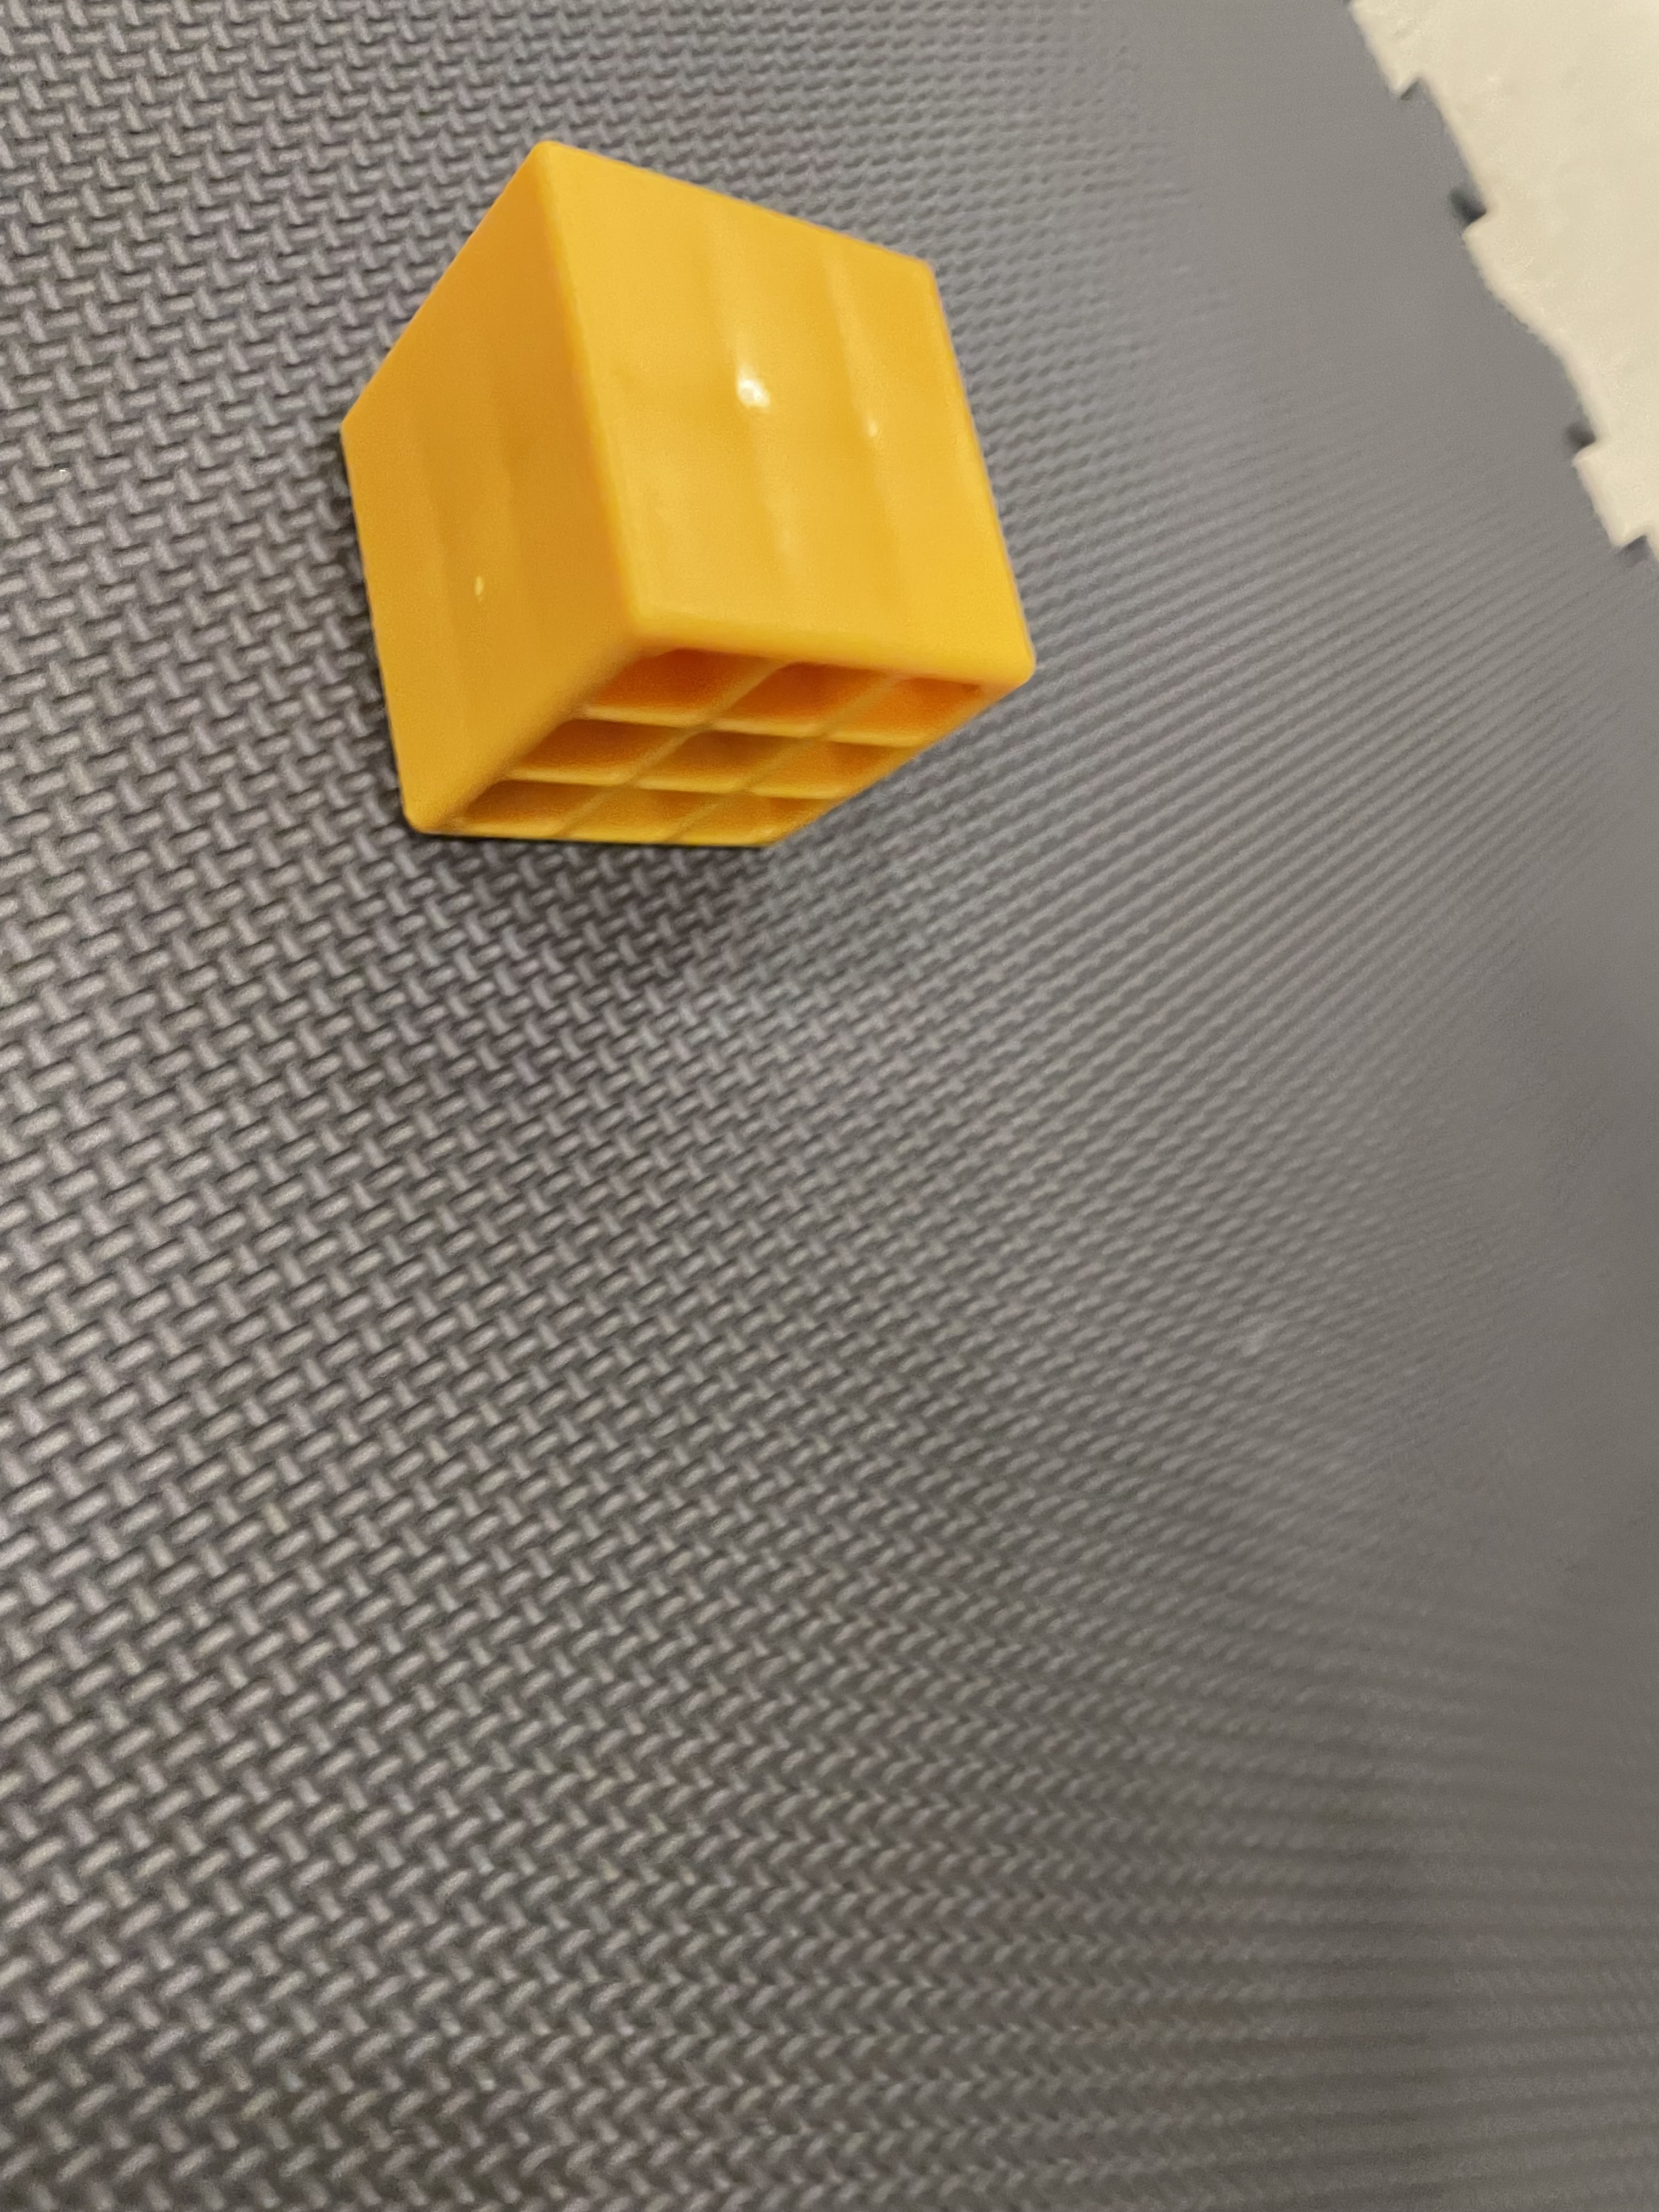cube: (267, 87, 1060, 961)
